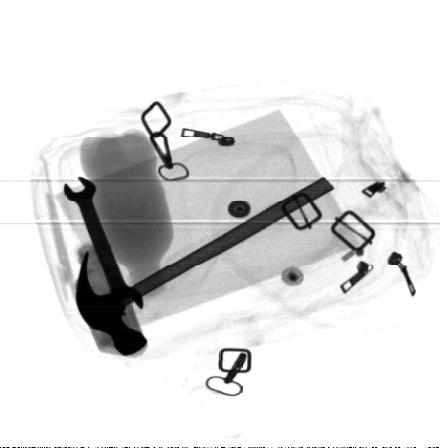Hammer: (76, 176, 336, 354)
Wrench: (63, 176, 143, 315)
